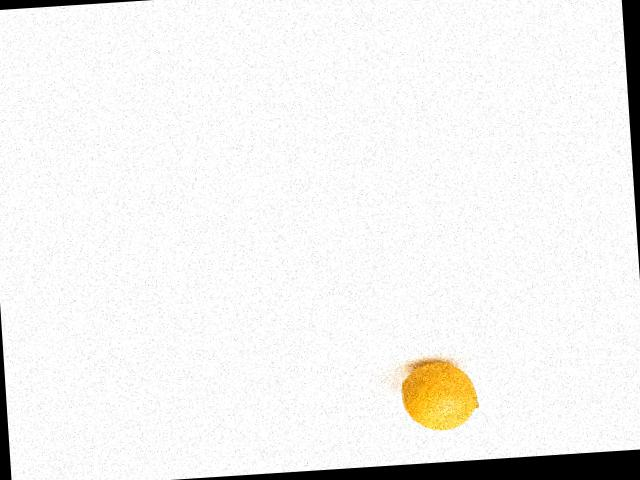lemon: (389, 350, 480, 434)
